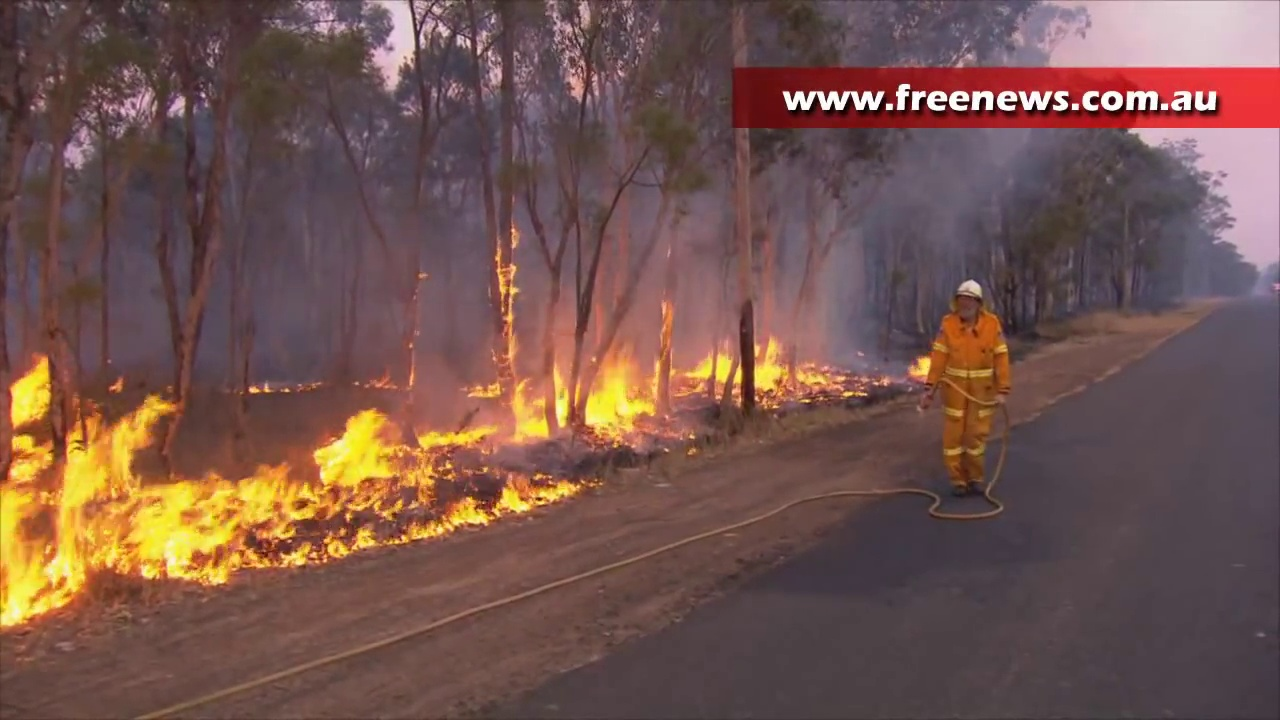fire: (1, 464, 311, 622), (311, 404, 492, 529), (684, 334, 832, 393), (64, 402, 167, 469), (582, 346, 654, 441), (7, 364, 50, 462), (496, 251, 517, 349), (499, 482, 556, 512), (517, 400, 542, 438), (907, 355, 930, 384)
